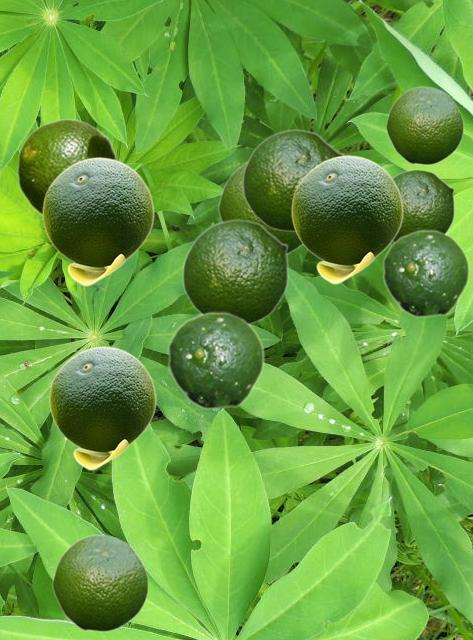calamansi: (42, 157, 153, 285), (291, 155, 402, 283), (49, 346, 155, 469), (182, 219, 288, 325), (242, 129, 344, 231), (16, 118, 117, 215), (167, 311, 264, 409), (51, 533, 148, 631), (217, 161, 302, 254), (382, 229, 469, 317), (385, 85, 463, 164), (393, 169, 454, 240)
